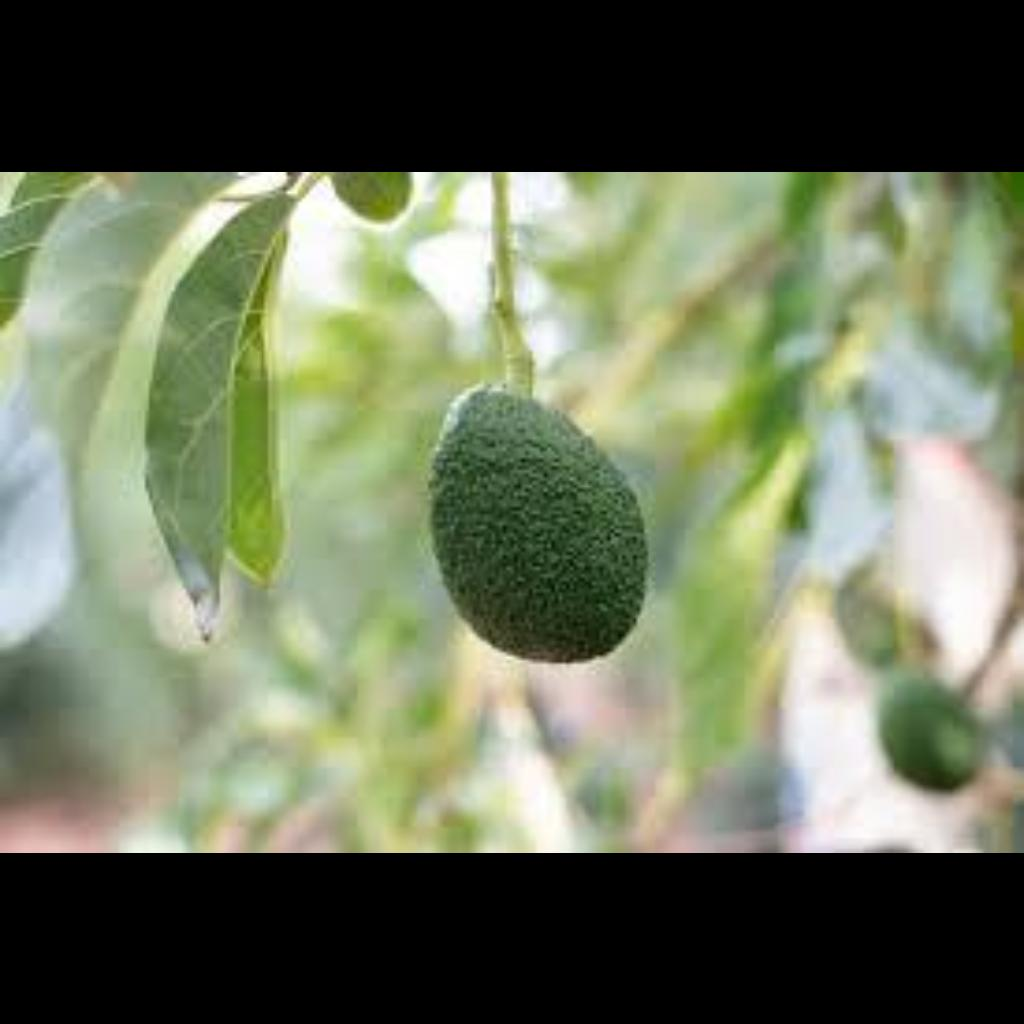cercospora: (421, 370, 670, 668)
